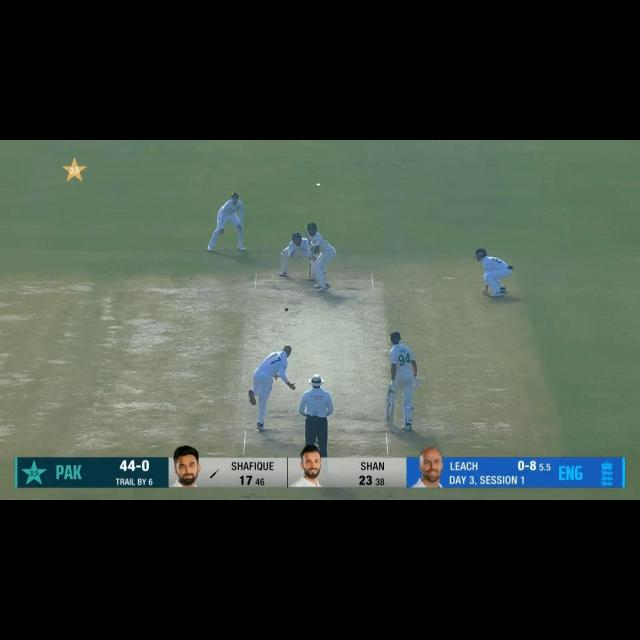bat: (303, 224, 313, 246), (389, 402, 395, 433)
toe: (389, 426, 395, 432), (302, 226, 308, 230)
